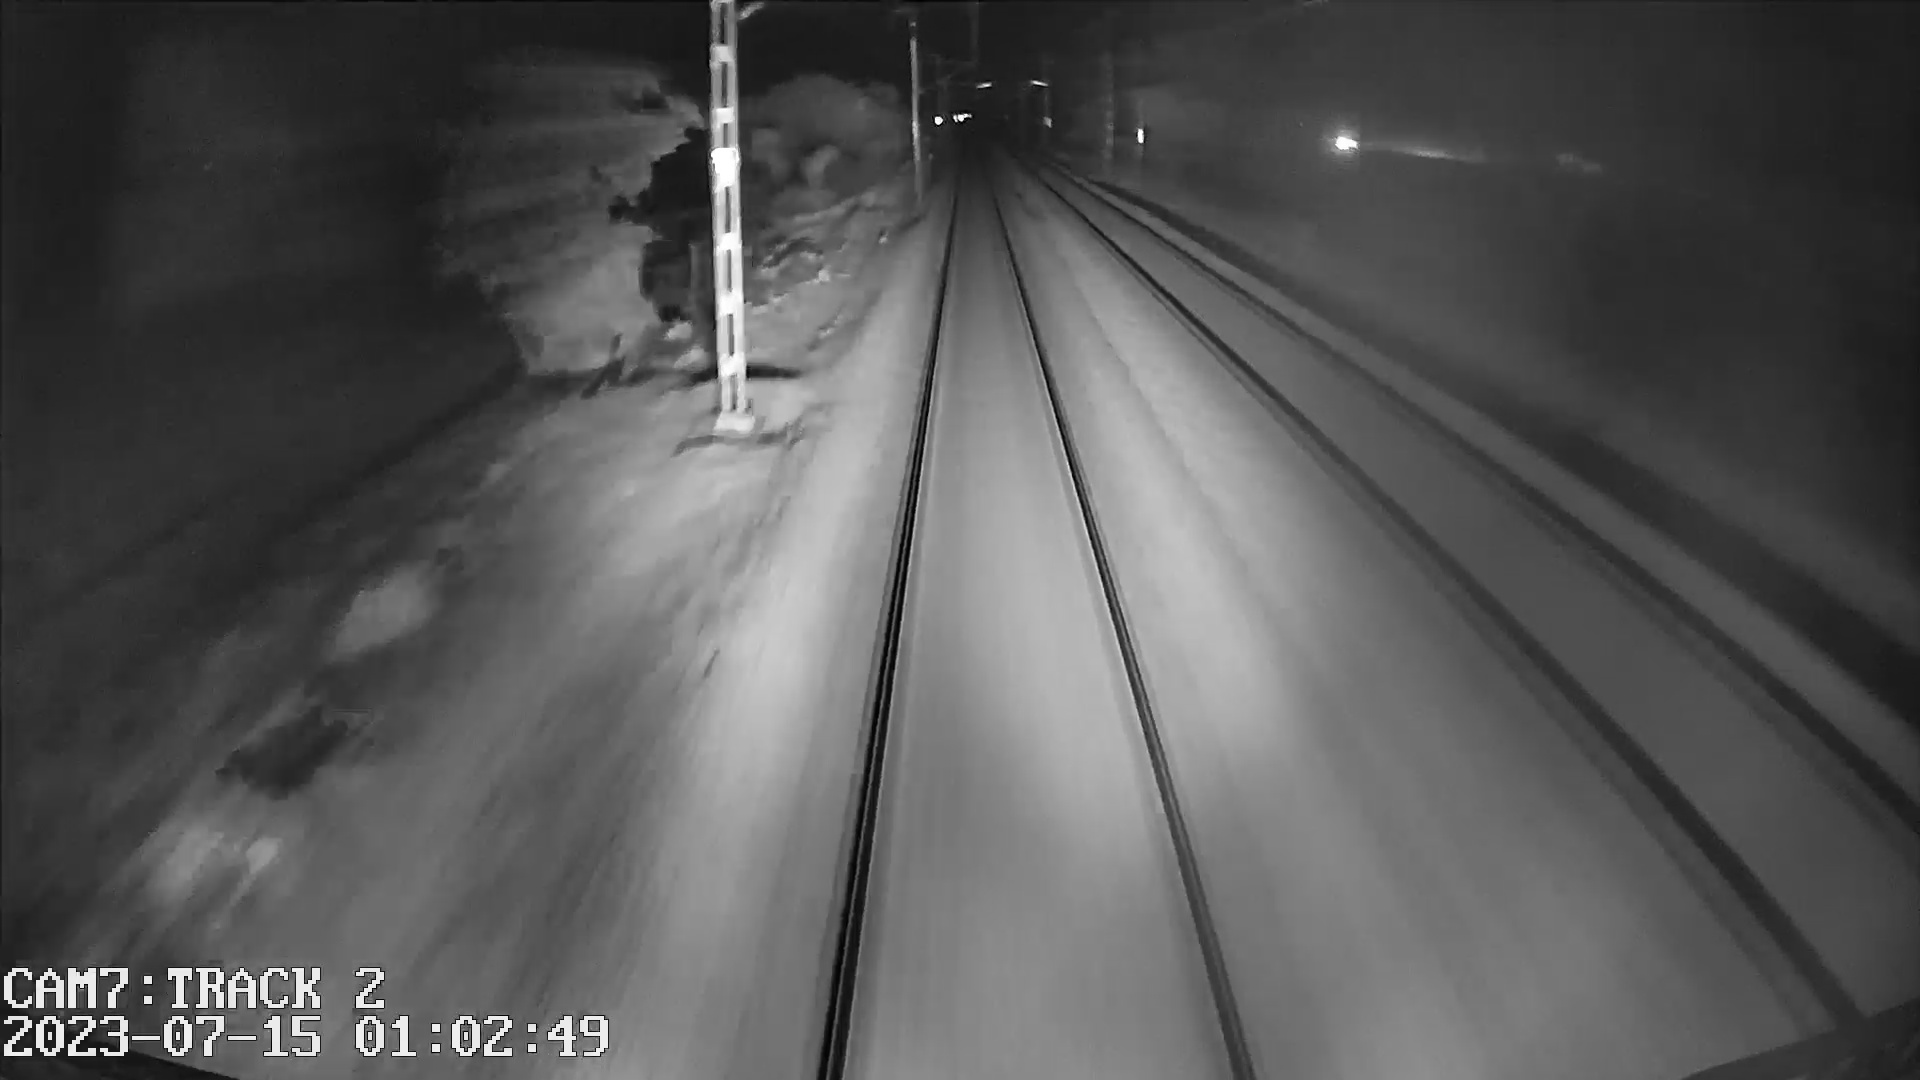track1: (836, 185, 1246, 1063)
track2: (1047, 177, 1903, 982)
